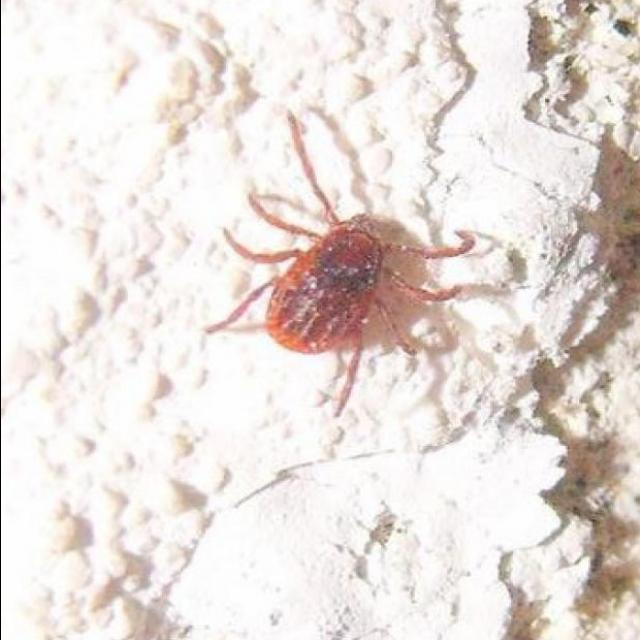Rhipicephalus Sanguineus-F: (197, 110, 493, 412)
